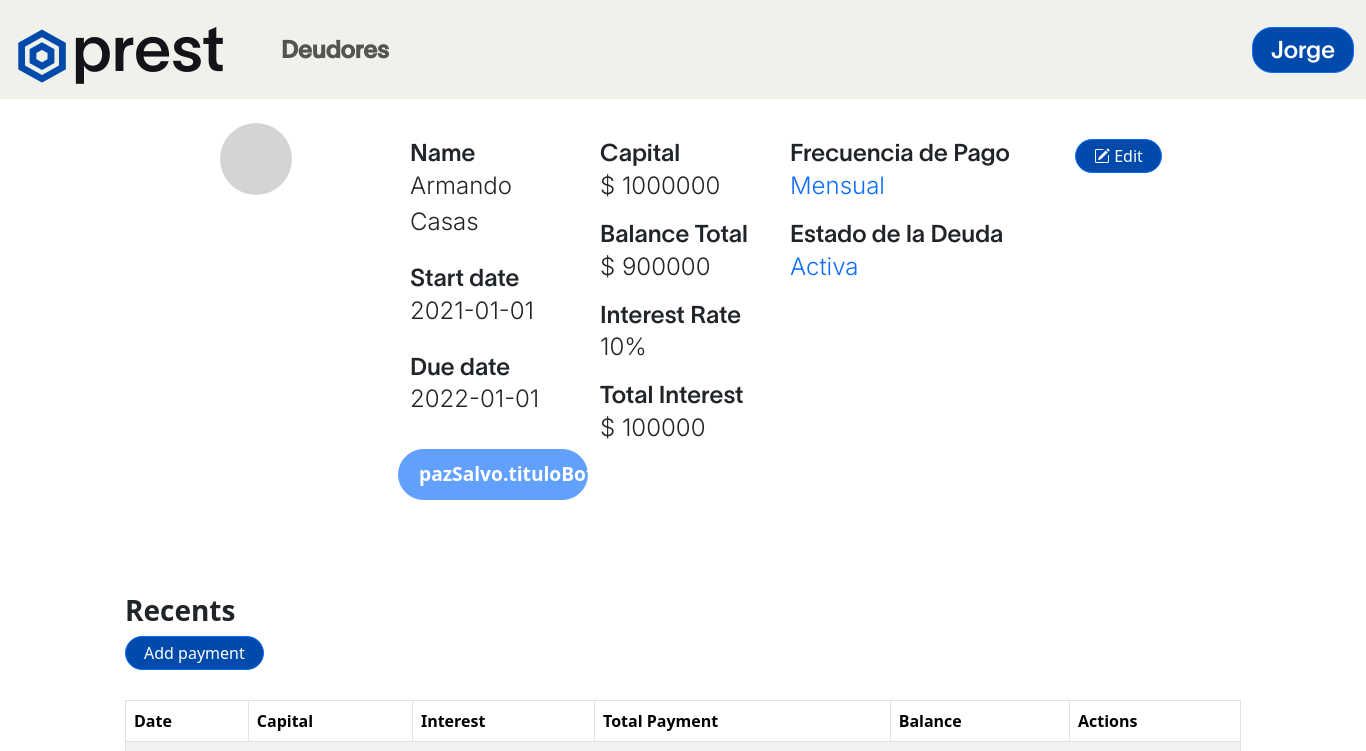
Test: DeudorApp › Mostrar error si la tasa de interés es inválida
The width and height of the screenshot is (1366, 751).
Note: Abrir el modal de modificar datos
Click the button "Edit" at (1118, 156), box x1=1075 y1=139 x2=1162 y2=173
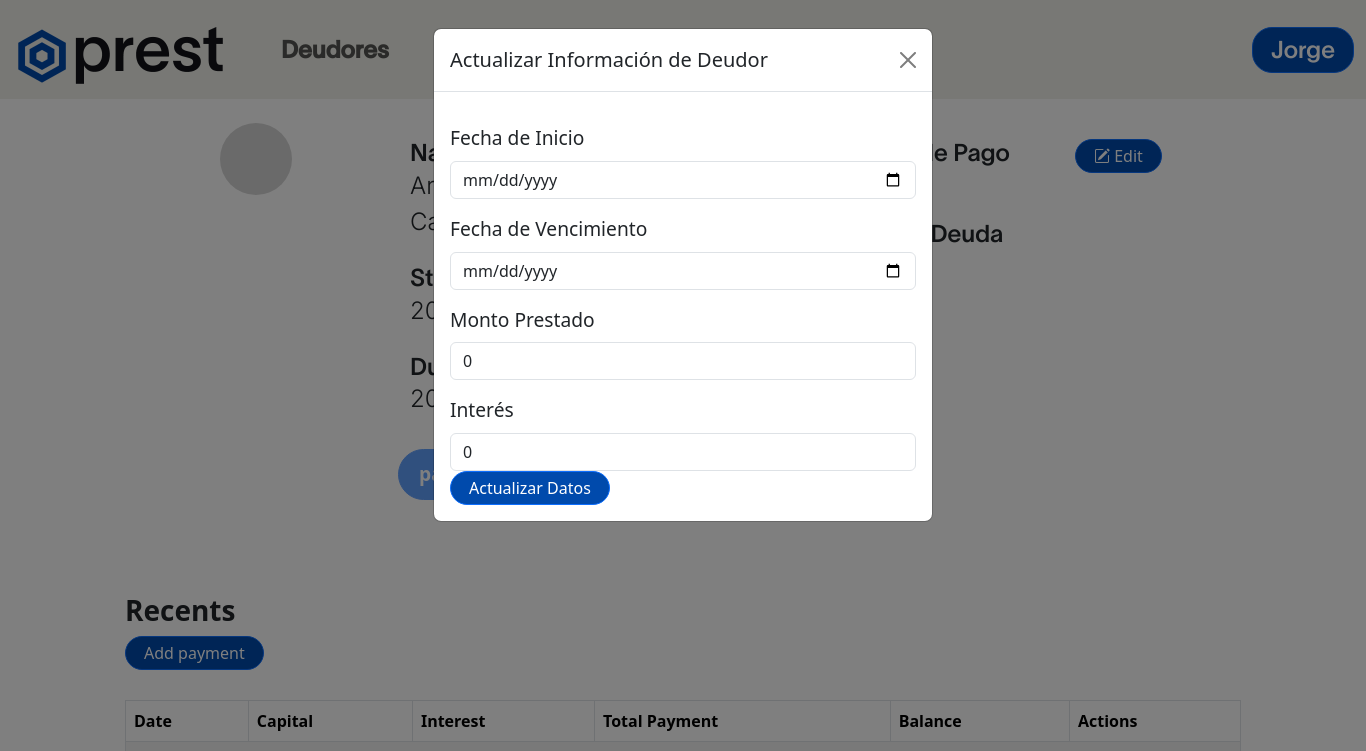
Note: Introducir una tasa de interés negativa
Replace the text in the number field labelled "Interés" with "-5" at (683, 452), box x1=450 y1=433 x2=916 y2=471
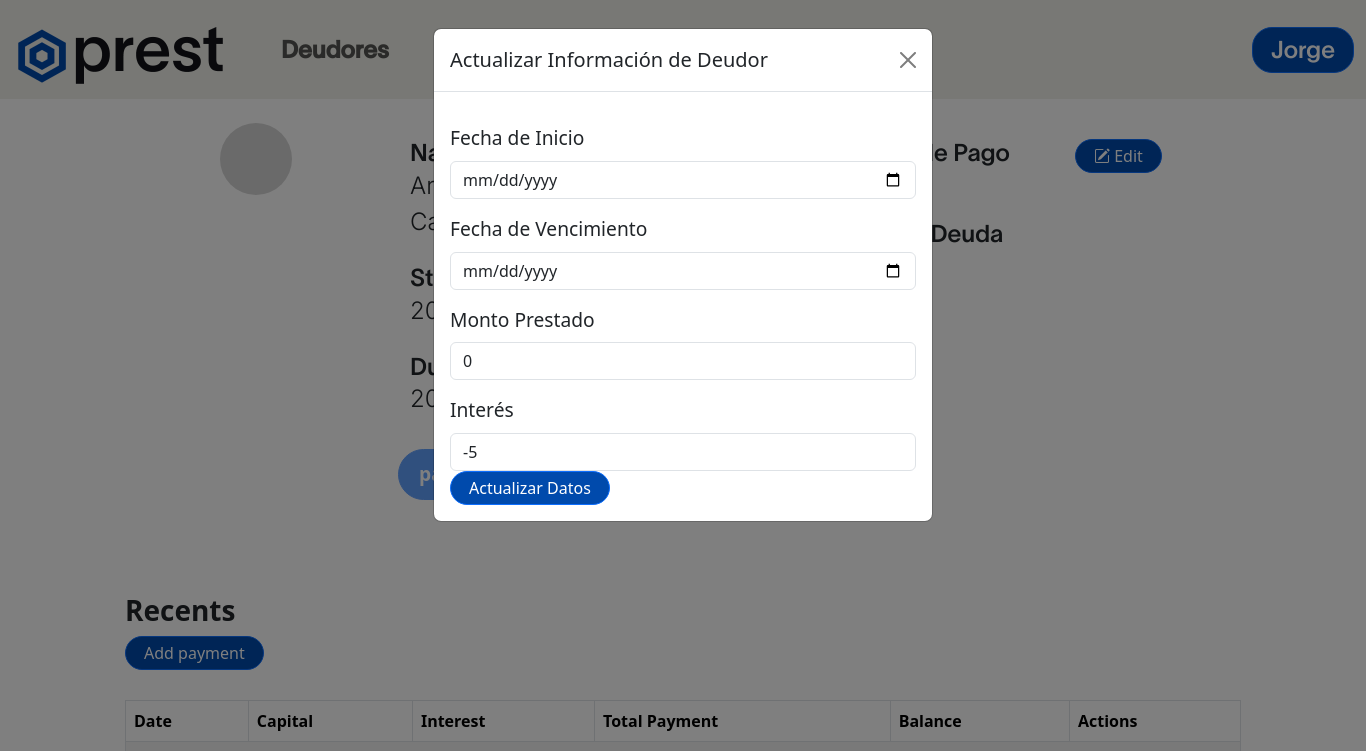
Note: Intentar guardar los cambios
Click the button "Actualizar Datos" at (530, 488), box x1=450 y1=471 x2=610 y2=505
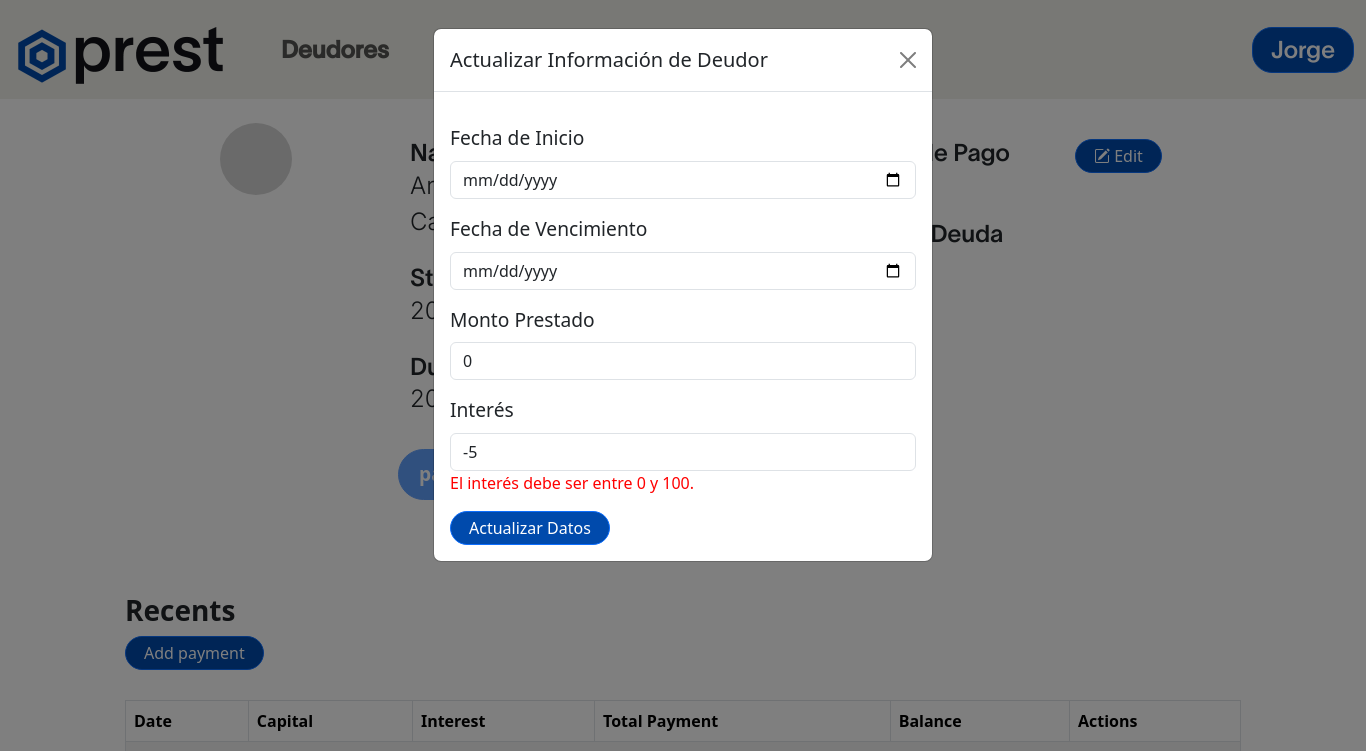
Now the text "El interés debe ser entre 0 y 100." is shown, box x1=450 y1=472 x2=694 y2=494
